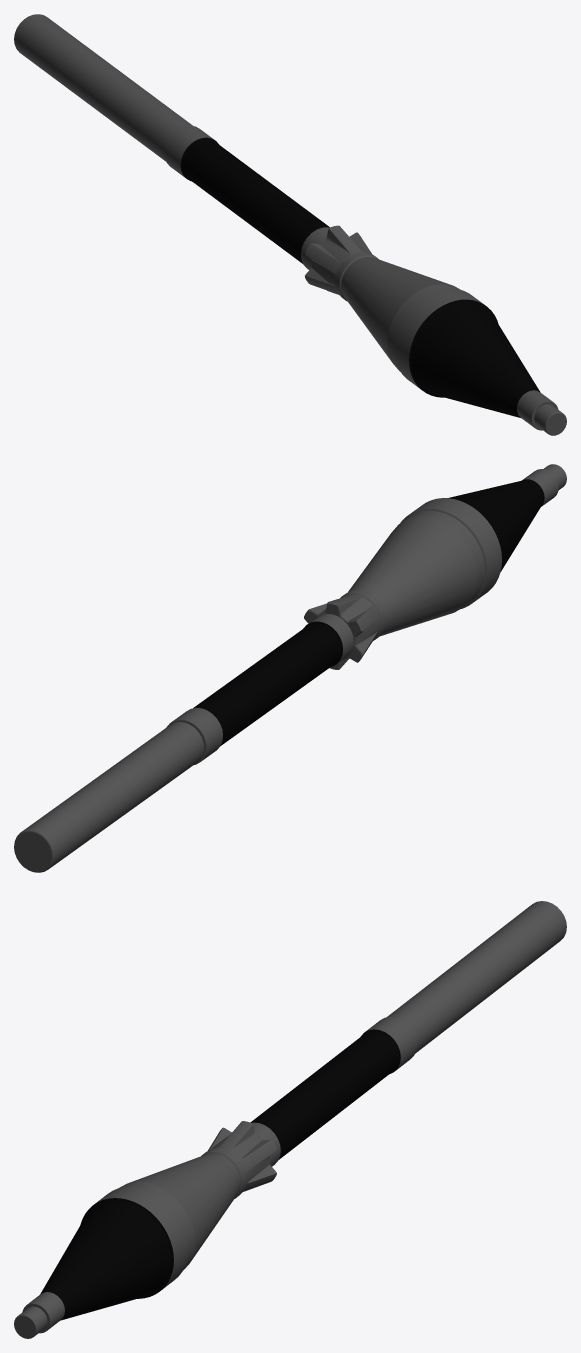
Rendered from Projectile.fbx.
3 views of the same model, one above another, from view 1: azimuth 30°, elevation 25°; view 2: azimuth 150°, elevation 25°; view 3: azimuth 330°, elevation 25° (orthographic). The views are drawn at different scales.
Visible parts, largest first — view 1: rocket; view 2: rocket; view 3: rocket.
Boxes of the visible parts, bbox=[...] form: rocket: bbox=[14, 14, 566, 435]; rocket: bbox=[14, 464, 566, 872]; rocket: bbox=[14, 901, 566, 1338].
Size of the model in its own units: 0.3938 by 0.3945 by 3.82.
